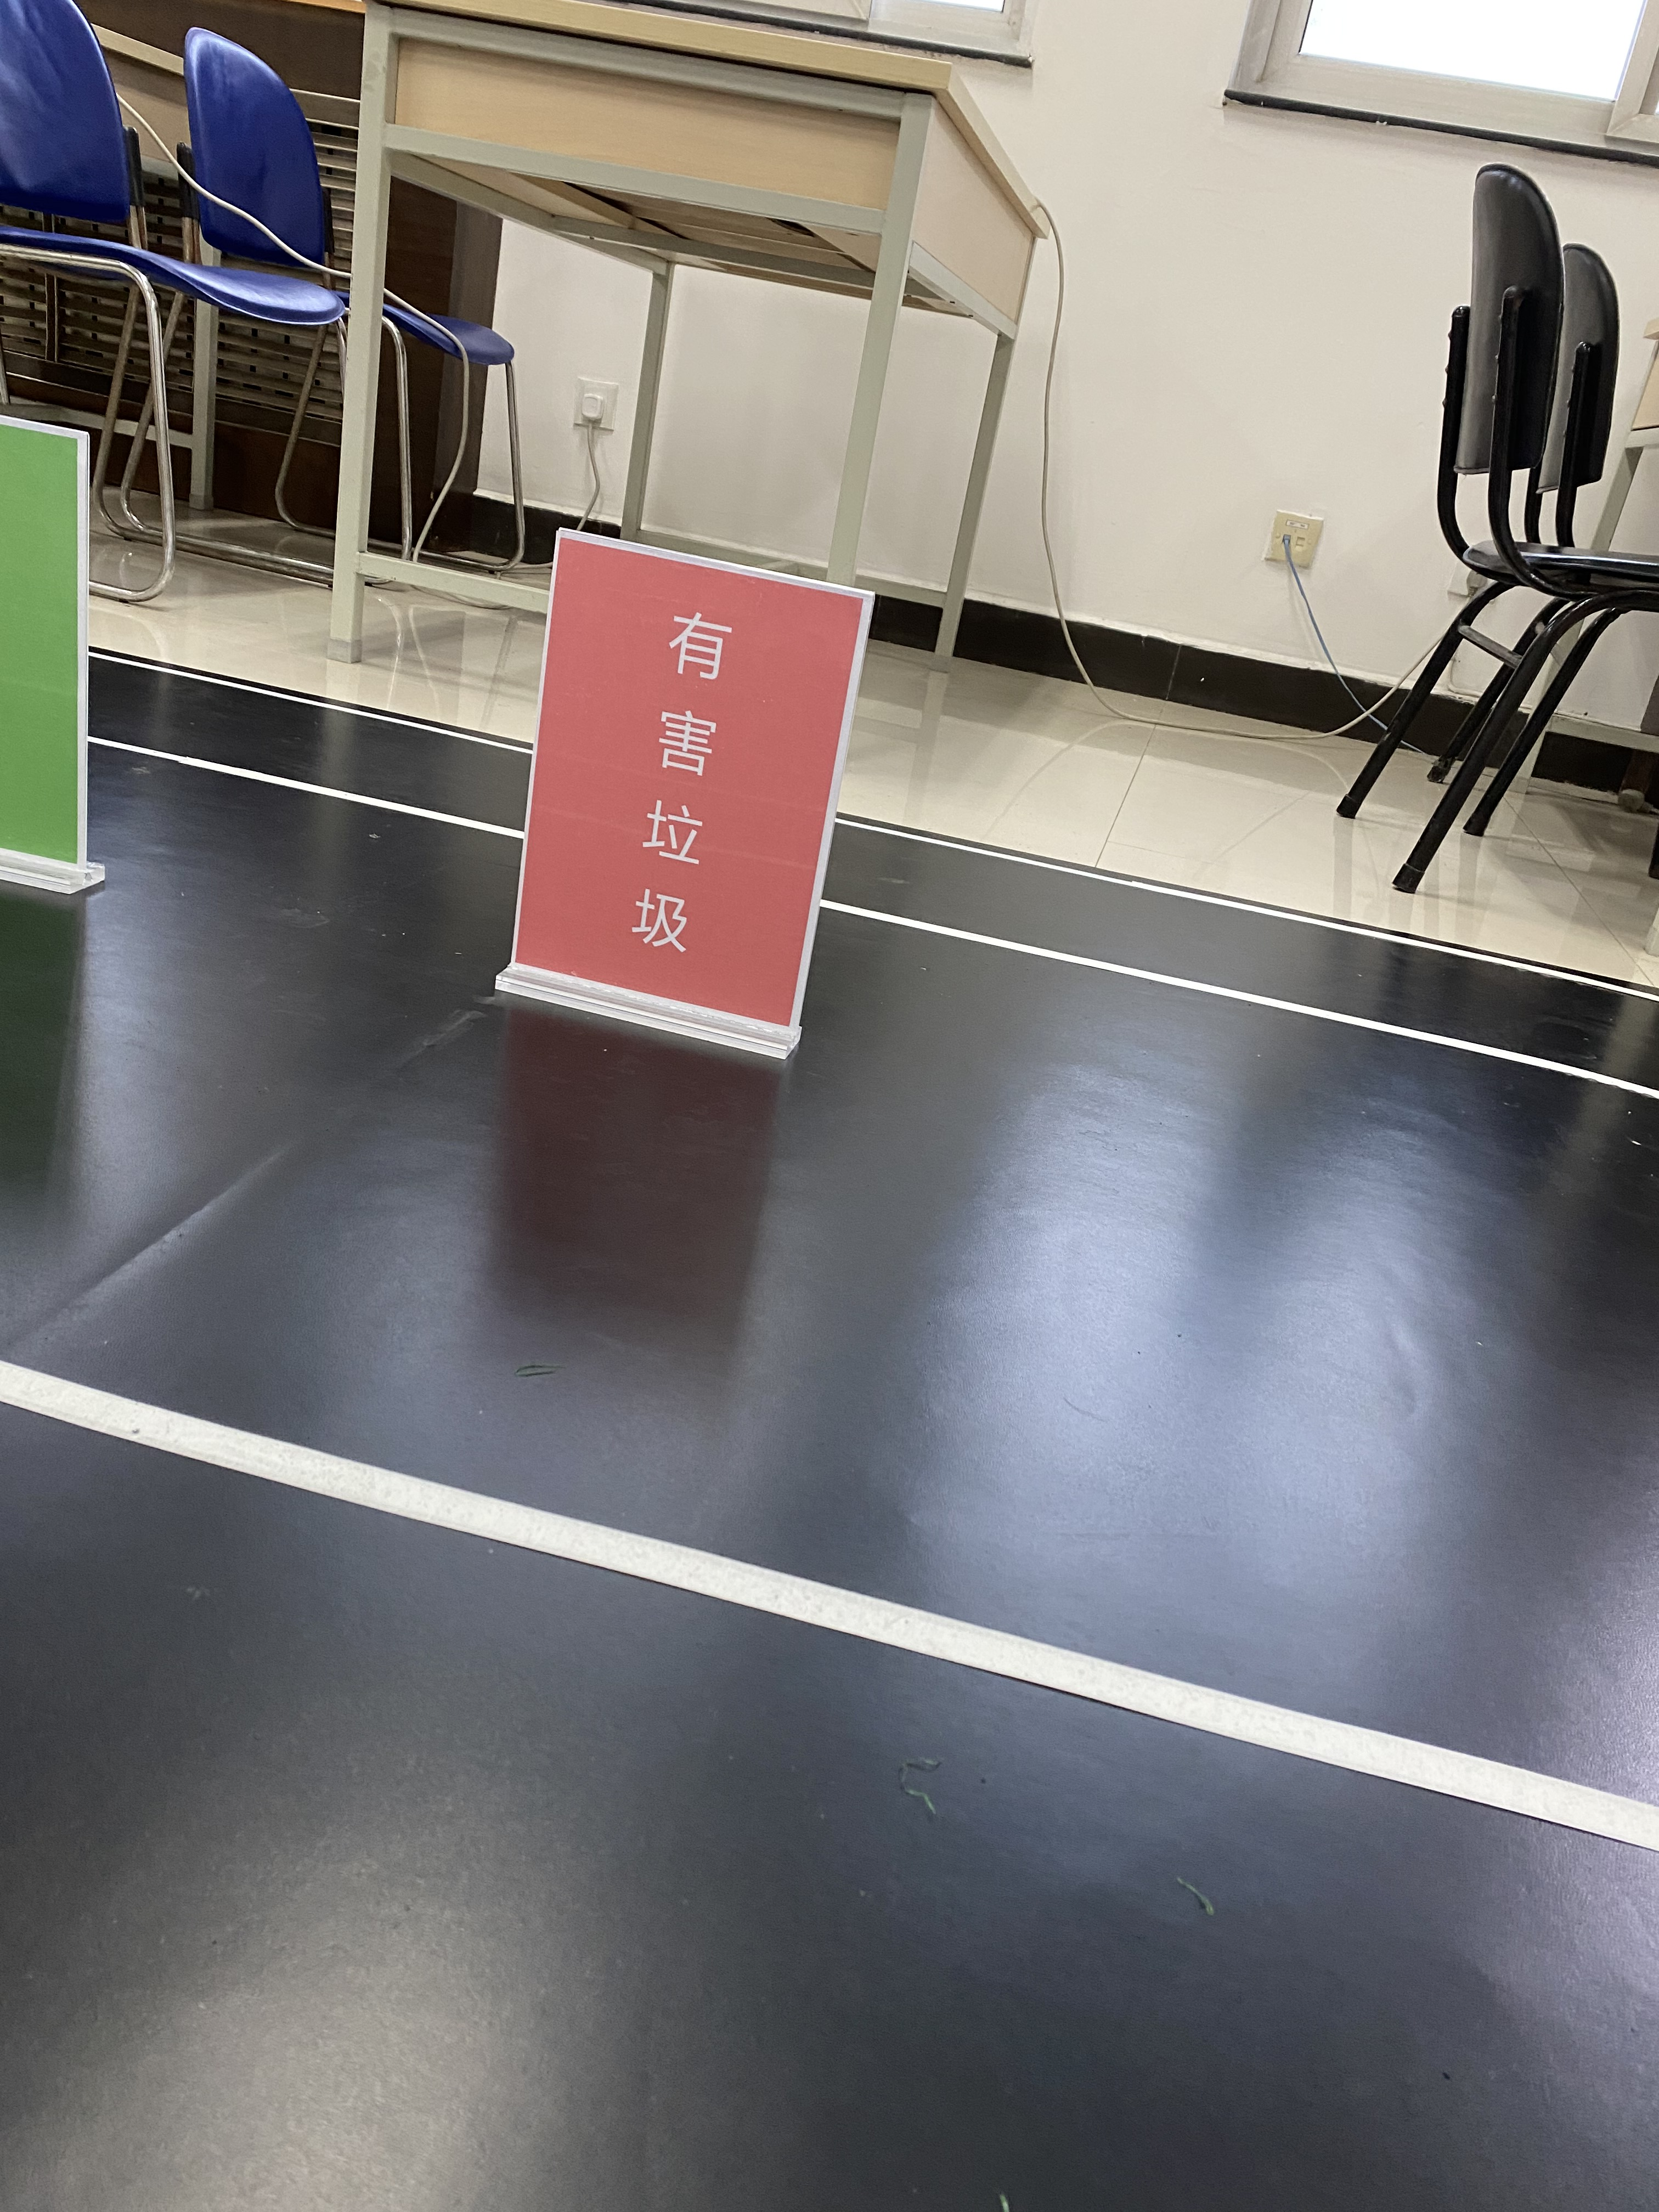red: (566, 589, 800, 968)
